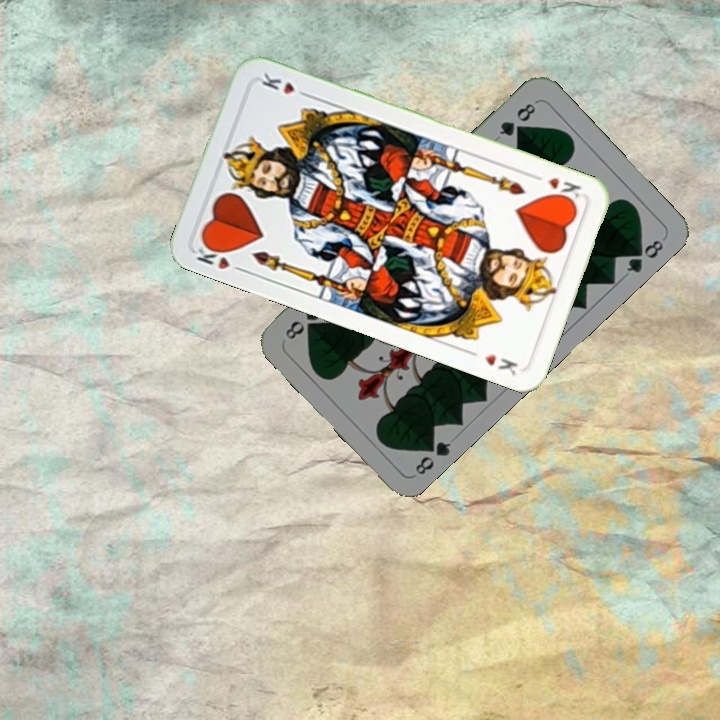G8: (411, 433, 454, 478), (495, 99, 539, 139)
HK: (191, 238, 248, 275), (529, 170, 584, 206)
